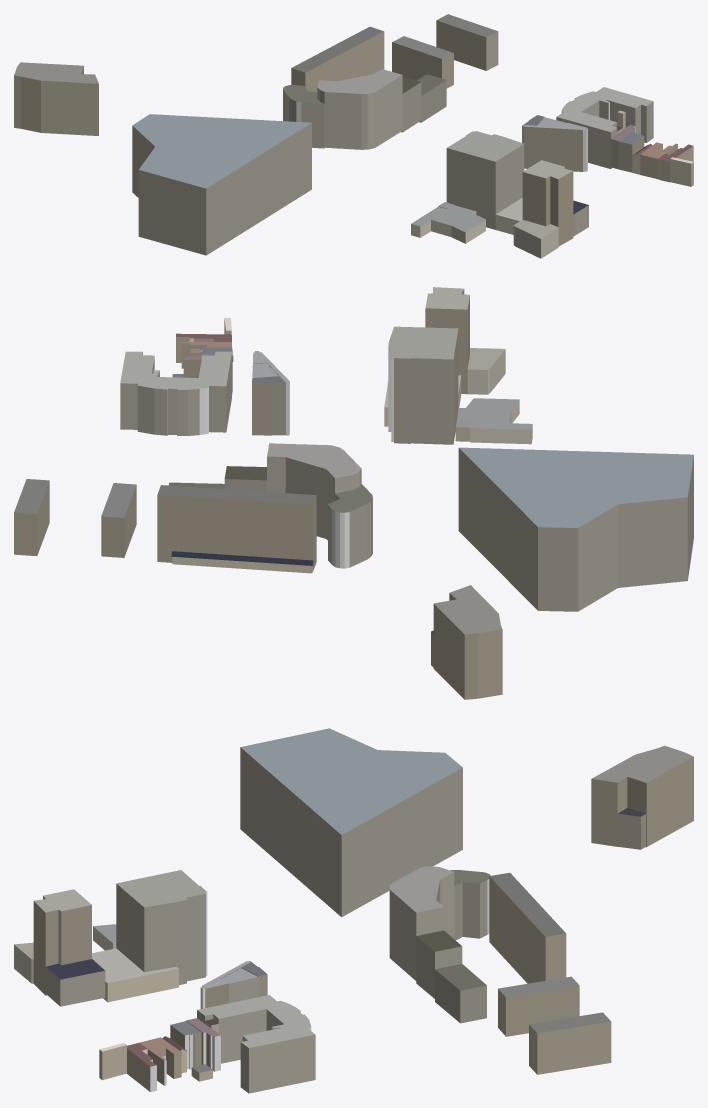
3 renders of one model, top to bottom at view 1: azimuth 30°, elevation 25°; view 2: azimuth 150°, elevation 25°; view 3: azimuth 270°, elevation 25°, orthographic. The views are drawn at different scales.
Parts seen in each view (by area): view 1: tuile; view 2: tuile; view 3: tuile.
Boxes of the visible parts, x1,y1,x2,y2 form: tuile: (14,14,693,258); tuile: (14,287,693,699); tuile: (14,728,693,1093).
Bounding box in the file's own units: 270 × 38.79 × 268.
